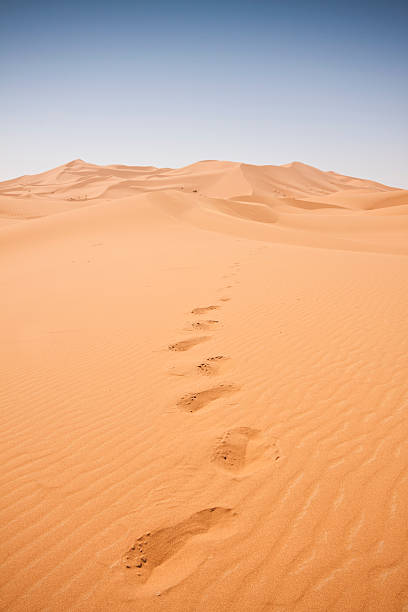human_footprint: (130, 504, 237, 596), (211, 427, 280, 471), (177, 384, 240, 413), (163, 330, 211, 354), (202, 355, 232, 372)
